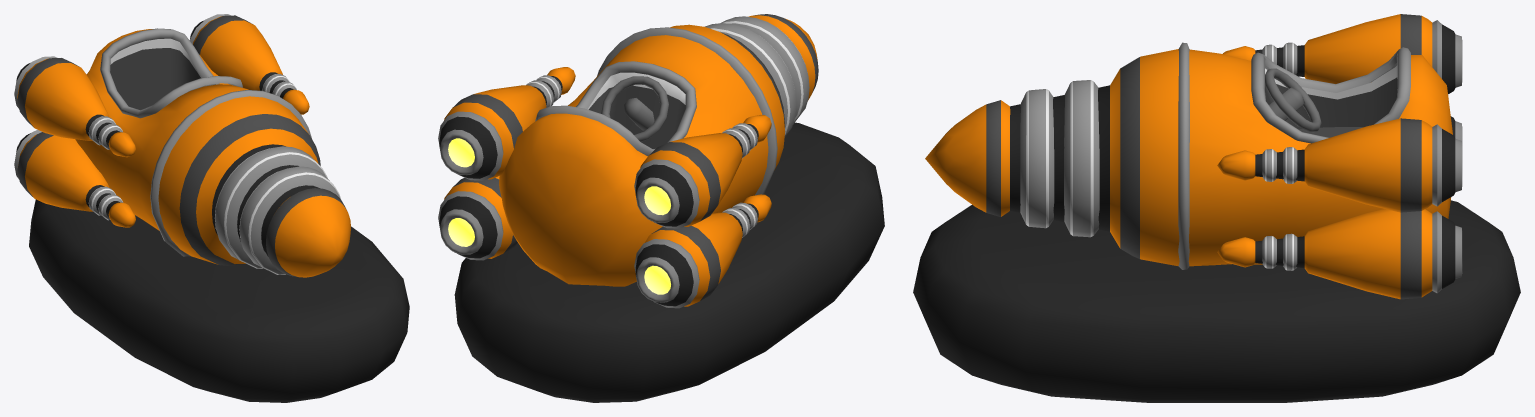
Rendered from mesh_Car_InGame_Q.fbx.
3 renders of one model, left to right at view 1: azimuth 30°, elevation 25°; view 2: azimuth 150°, elevation 25°; view 3: azimuth 270°, elevation 25°, orthographic. The views are drawn at different scales.
Visible parts, largest first — view 1: mesh_Car_InGame_Q; view 2: mesh_Car_InGame_Q; view 3: mesh_Car_InGame_Q.
Part boxes in pixels (<box>): mesh_Car_InGame_Q: <box>14,14,409,402</box>; mesh_Car_InGame_Q: <box>438,14,884,402</box>; mesh_Car_InGame_Q: <box>913,14,1520,402</box>.
Size of the model in its own units: 1.77 by 1.6 by 2.97.
